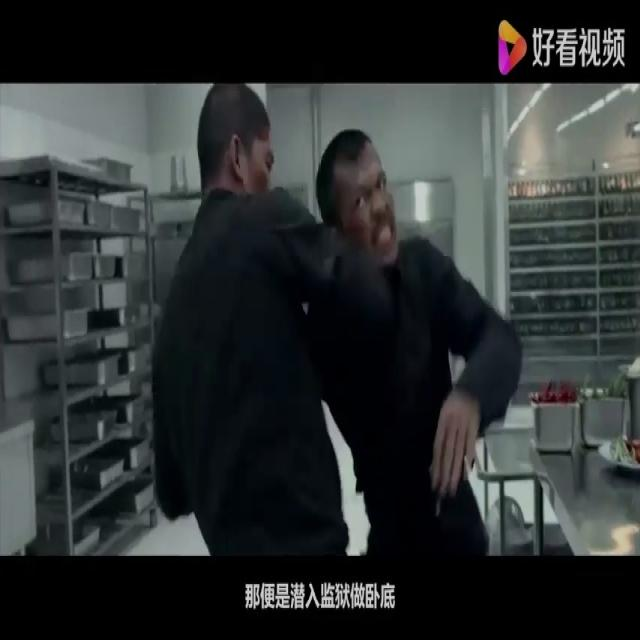fight: (150, 82, 523, 556)
